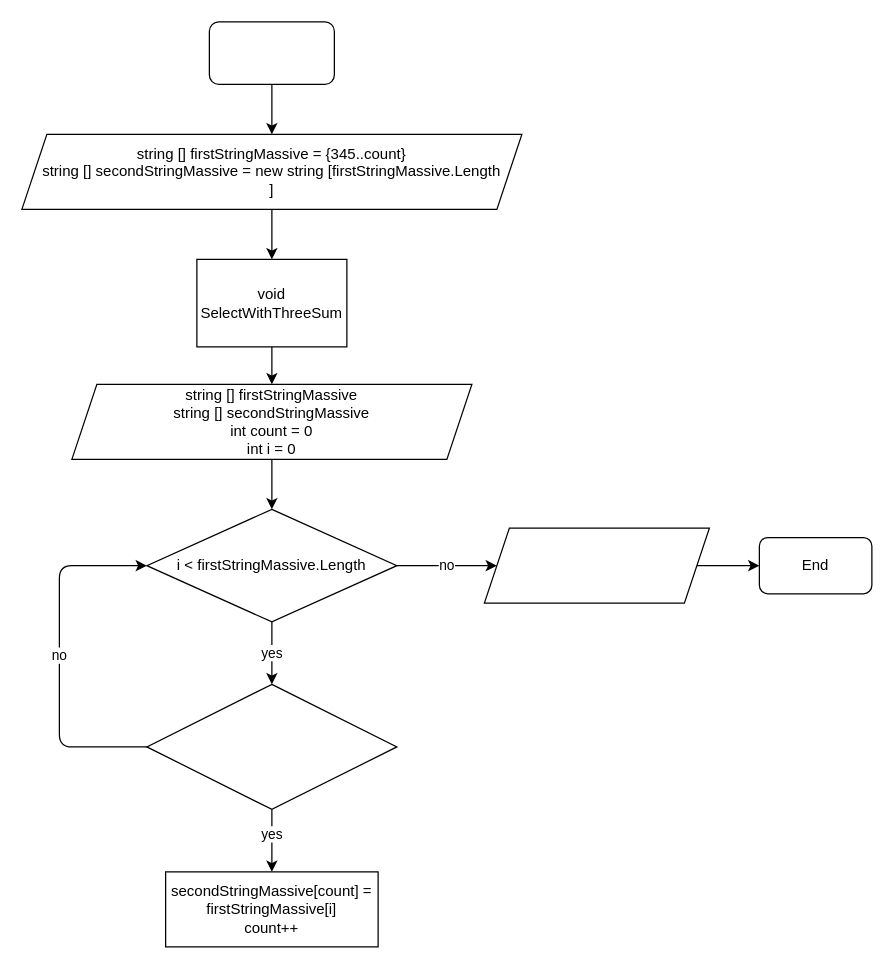
Image size: 894x969. Some labels were removed from this diagram. Each missing label, with the box of its shape:
firstStringMassive[i].Length <= 3: (146, 683, 397, 809)
Print(secondStringMassive): (483, 527, 709, 603)
Start: (208, 21, 334, 84)
